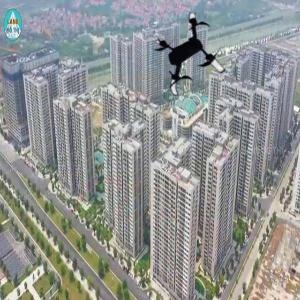drone: (149, 15, 236, 102)
